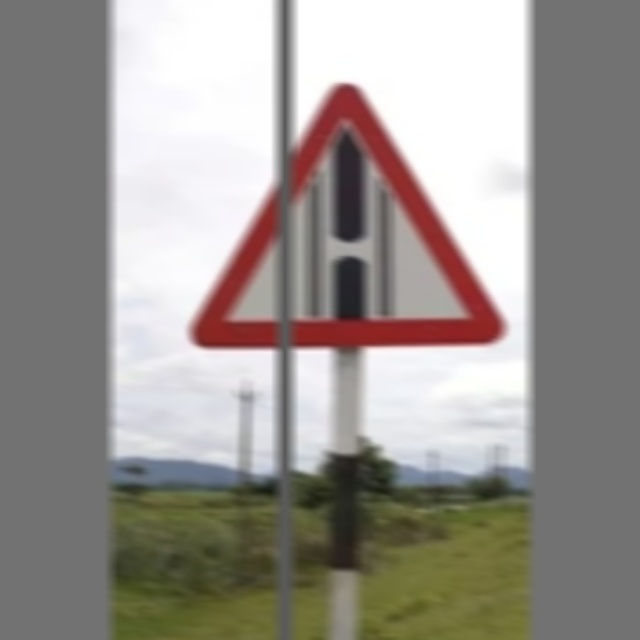Gap_in_Median: (192, 65, 502, 347)
